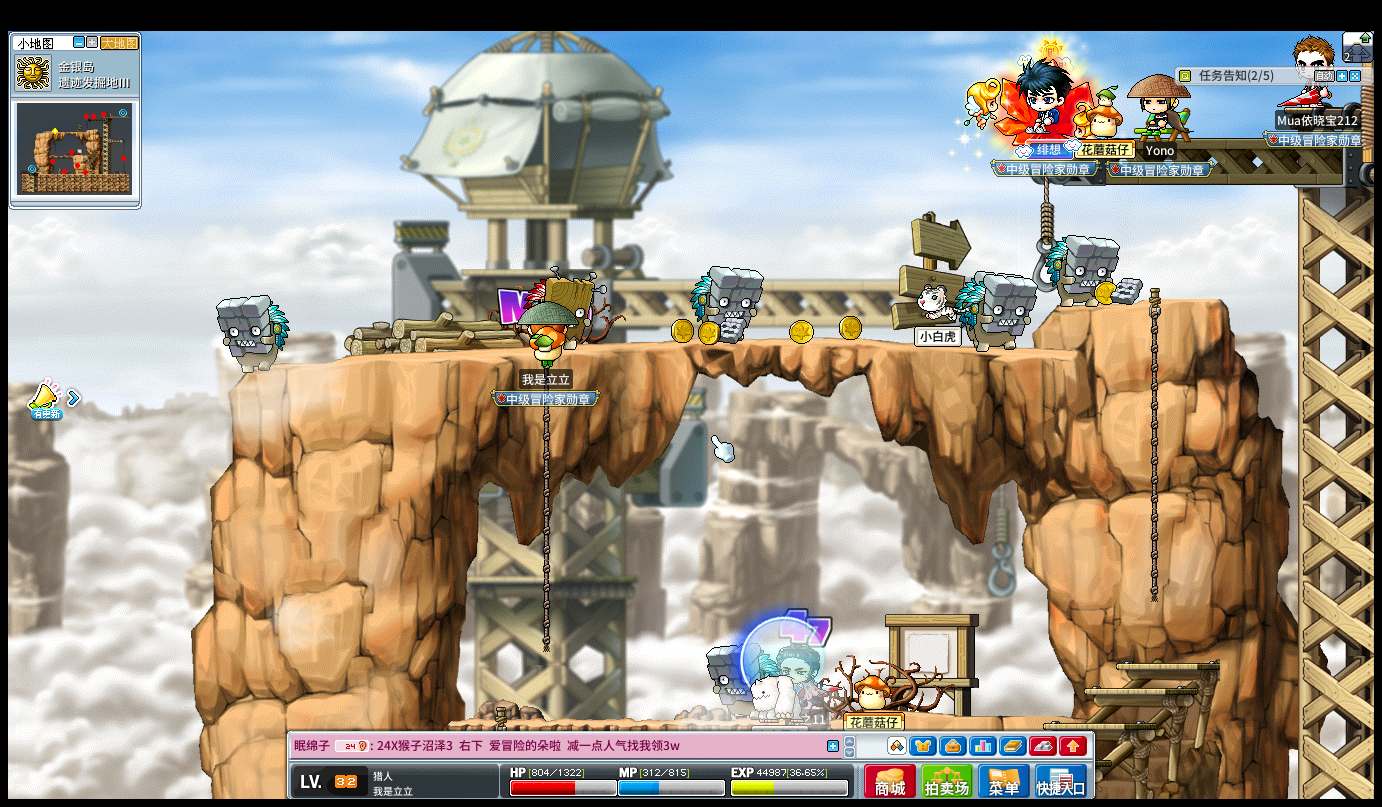floor: (223, 331, 1138, 366), (262, 333, 1098, 359), (1066, 296, 1230, 312), (1068, 293, 1229, 309), (1113, 661, 1219, 671), (1081, 685, 1196, 694)
monster: (215, 294, 291, 374), (960, 271, 1034, 350), (691, 264, 764, 344), (1045, 233, 1119, 307), (705, 642, 744, 720)
rope: (1146, 283, 1160, 607), (538, 357, 550, 653), (1040, 175, 1051, 248)
